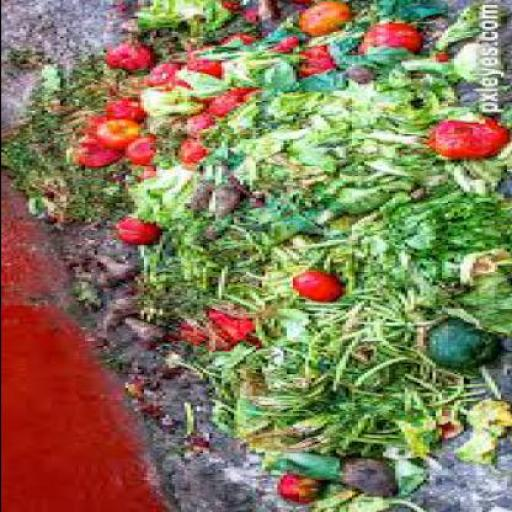biodegradable: (205, 307, 484, 459), (236, 82, 415, 274), (134, 226, 294, 322), (1, 123, 122, 228), (335, 252, 453, 319), (419, 143, 509, 203), (450, 251, 509, 339), (419, 195, 509, 252), (375, 66, 459, 120), (398, 46, 496, 88), (422, 318, 496, 372), (453, 398, 509, 466), (44, 59, 105, 121), (130, 2, 236, 36), (422, 120, 506, 162), (170, 313, 252, 352), (422, 12, 484, 63), (128, 166, 186, 220), (18, 62, 63, 126), (351, 24, 412, 63), (214, 52, 273, 91), (334, 458, 388, 500), (140, 88, 201, 120), (326, 338, 360, 394), (348, 360, 406, 392), (291, 5, 348, 37), (100, 41, 149, 76), (309, 496, 423, 511), (118, 318, 168, 352), (332, 48, 418, 66), (202, 90, 255, 119), (254, 57, 295, 94), (90, 256, 136, 288), (288, 274, 338, 303), (276, 475, 320, 507), (422, 375, 463, 409), (170, 72, 230, 95), (112, 220, 158, 249), (171, 134, 211, 166), (394, 460, 426, 499), (294, 74, 348, 97), (180, 48, 218, 80), (155, 352, 196, 380), (186, 178, 214, 217), (198, 212, 236, 240), (96, 99, 140, 123), (62, 280, 93, 314), (100, 298, 130, 333), (212, 178, 238, 218), (146, 138, 174, 175), (2, 49, 44, 73), (140, 64, 180, 89), (330, 33, 356, 68), (298, 49, 326, 79), (177, 116, 214, 138), (174, 436, 208, 458), (142, 118, 180, 136), (118, 378, 143, 402), (348, 434, 394, 447), (338, 69, 370, 87), (130, 404, 158, 423), (177, 401, 190, 440), (307, 37, 338, 47)
